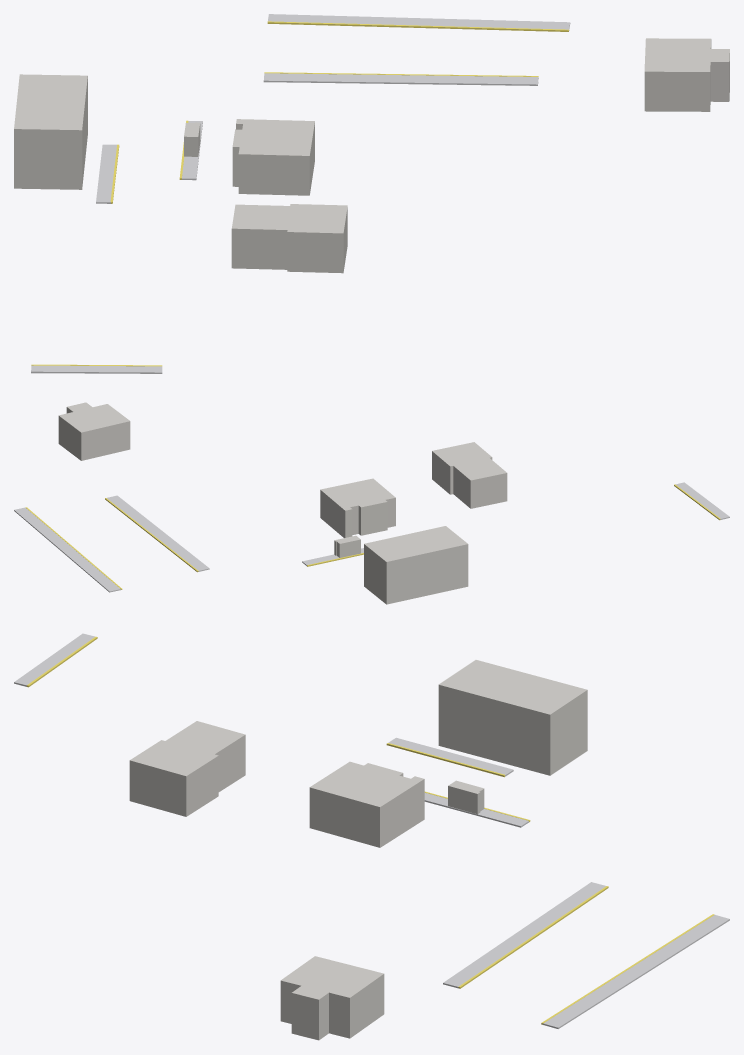
The model's file is 8588562-wabern-gurtenbahn.glb.
The picture shows the model from 3 angles, top to bottom: view 1: azimuth 30°, elevation 25°; view 2: azimuth 150°, elevation 25°; view 3: azimuth 270°, elevation 25°; orthographic projection. The views are drawn at different scales.
Parts seen in each view (by area): view 1: building_part@x, platform_body@0, boarding_edge@0; view 2: building_part@x, platform_body@0, boarding_edge@0; view 3: building_part@x, platform_body@0, boarding_edge@0.
Part boxes in pixels (x1,y1,x2,y2): building_part@x: [14, 38, 729, 273]; platform_body@0: [31, 14, 570, 373]; boarding_edge@0: [31, 21, 568, 366]; building_part@x: [58, 402, 507, 604]; platform_body@0: [14, 482, 729, 592]; boarding_edge@0: [25, 484, 720, 589]; building_part@x: [129, 660, 587, 1040]; platform_body@0: [14, 633, 729, 1028]; boarding_edge@0: [26, 636, 714, 1024].
Size of the model in its own units: 150 by 12.25 by 111.
